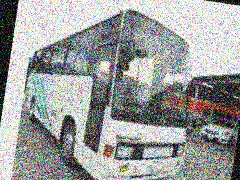bus: (14, 0, 208, 180)
